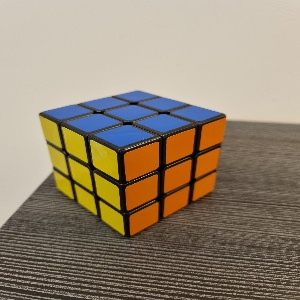cube: (38, 90, 226, 238)
